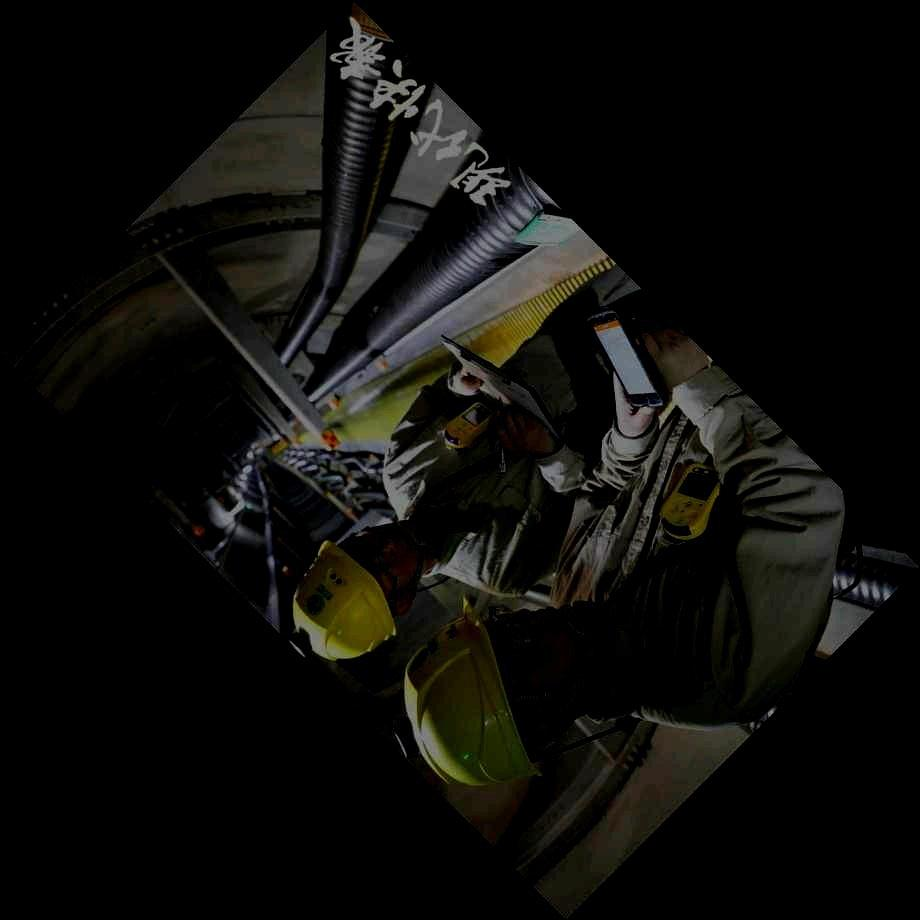helmet: (403, 592, 624, 786), (292, 519, 425, 662)
